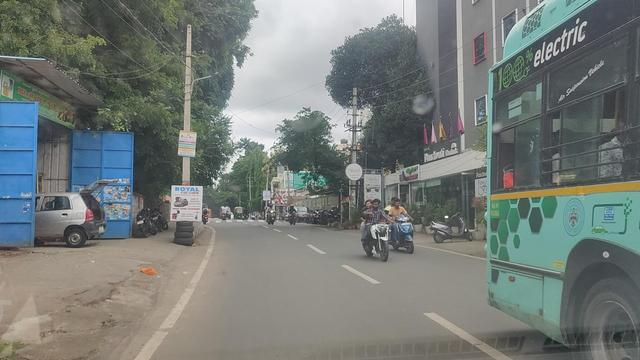LMV: (392, 196, 419, 259), (363, 197, 389, 260)
RoadDamages: (86, 269, 165, 327)
